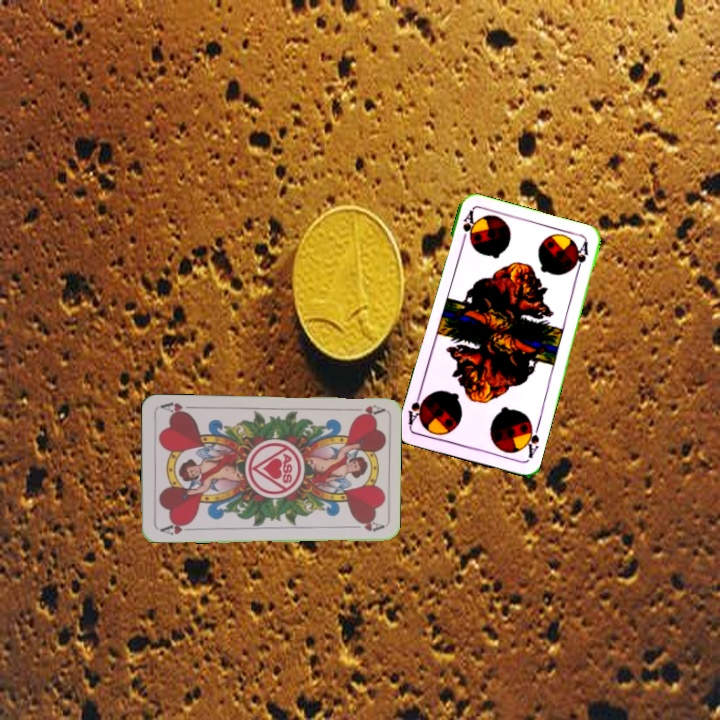HA: (156, 518, 195, 537), (351, 401, 385, 420)
SA: (519, 420, 542, 461), (458, 207, 478, 247)
